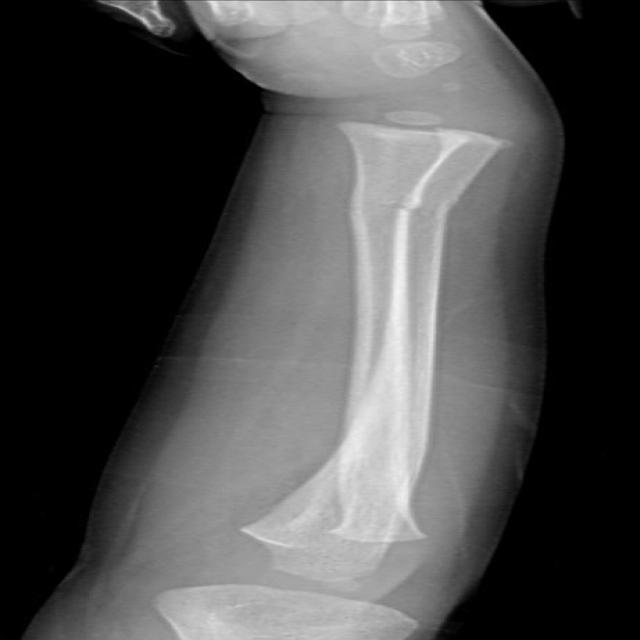fracture: (378, 201, 423, 213)
